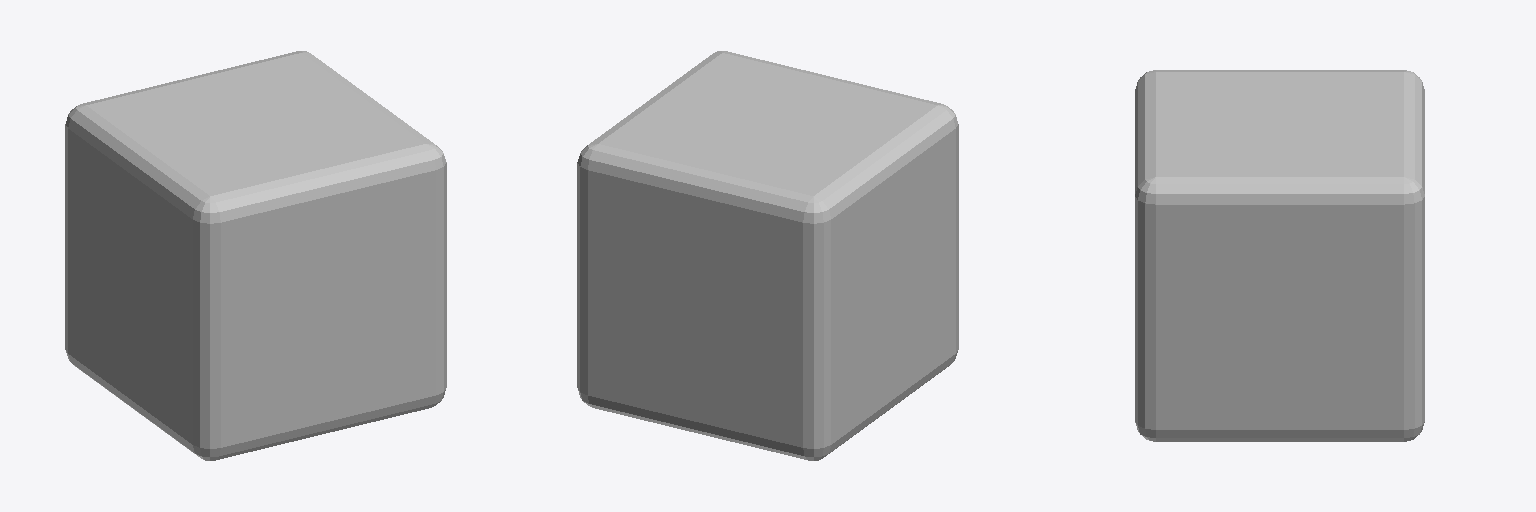
Rendered from roundedCube.obj.
3 renders of one model, left to right at view 1: azimuth 30°, elevation 25°; view 2: azimuth 150°, elevation 25°; view 3: azimuth 270°, elevation 25°, orthographic.
Visible parts, largest first — view 1: 3DSMesh_0_0, 3DSMesh_2_0, 3DSMesh_3_0, 3DSMesh_1_0; view 2: 3DSMesh_0_0, 3DSMesh_2_0, 3DSMesh_3_0, 3DSMesh_1_0; view 3: 3DSMesh_2_0, 3DSMesh_1_0, 3DSMesh_3_0.
Boxes of the visible parts, <box> form: 3DSMesh_0_0: <box>221,170,435,447</box>; 3DSMesh_2_0: <box>68,129,192,444</box>; 3DSMesh_3_0: <box>65,51,446,460</box>; 3DSMesh_1_0: <box>86,53,424,195</box>; 3DSMesh_0_0: <box>588,170,802,447</box>; 3DSMesh_2_0: <box>831,129,955,444</box>; 3DSMesh_3_0: <box>577,51,958,460</box>; 3DSMesh_1_0: <box>599,53,937,195</box>; 3DSMesh_2_0: <box>1156,205,1403,429</box>; 3DSMesh_1_0: <box>1156,72,1403,176</box>; 3DSMesh_3_0: <box>1135,70,1424,441</box>.
Size of the model in its own units: 3.19 by 3.19 by 3.19.